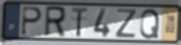4: (93, 7, 113, 39)
P: (20, 5, 44, 37)
Q: (139, 8, 161, 41)
R: (43, 5, 67, 39)
T: (70, 6, 89, 39)
Z: (114, 8, 138, 39)
